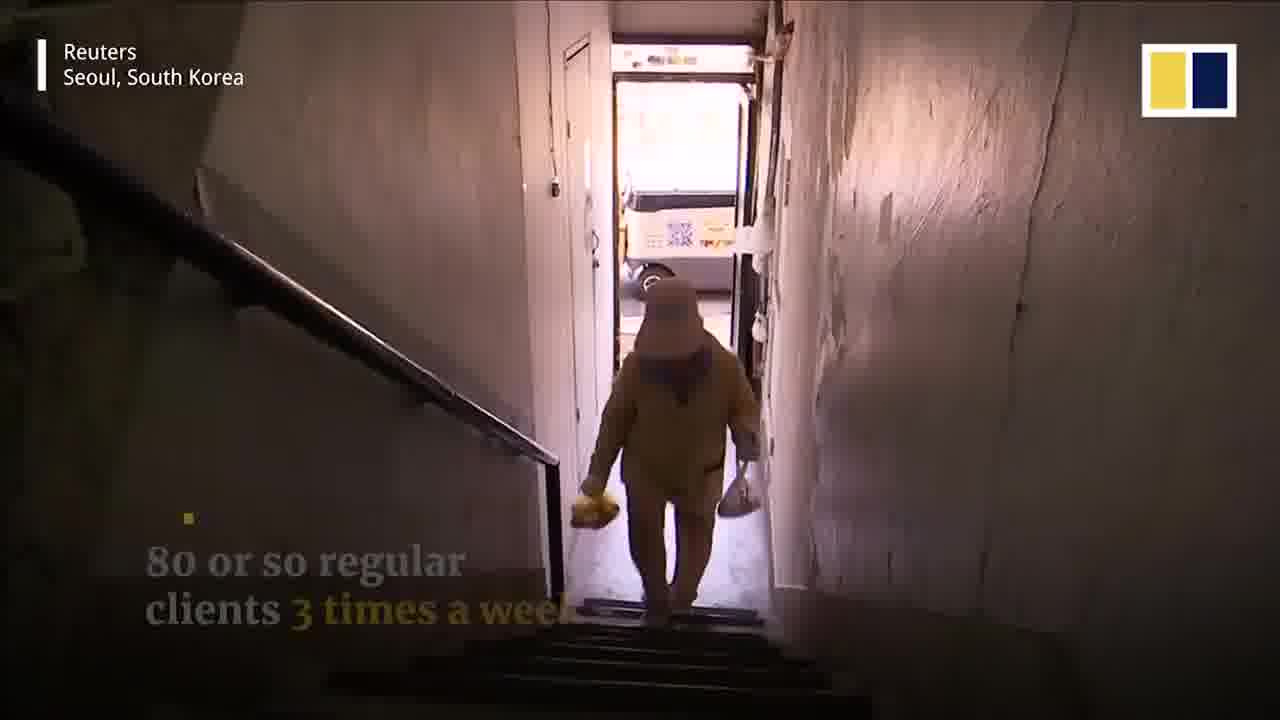Yakurut: (562, 271, 787, 651)
